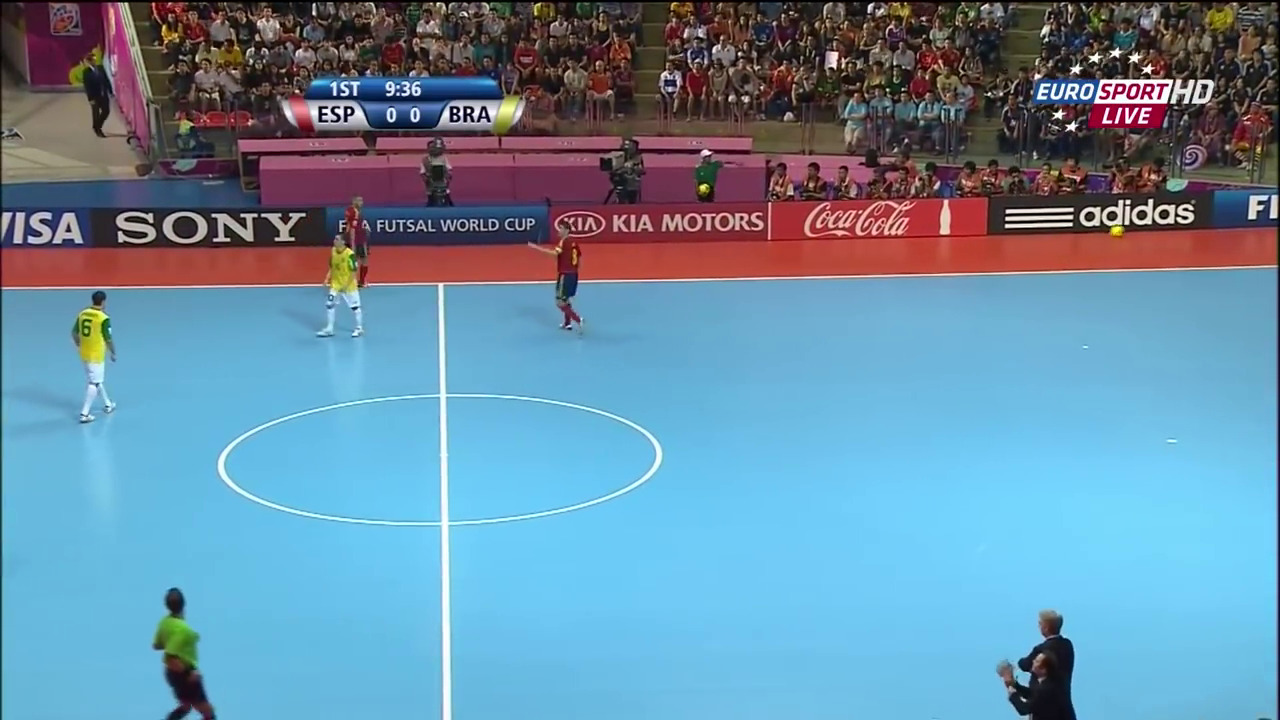person: (68, 284, 120, 424), (524, 215, 585, 334), (322, 227, 362, 338), (343, 194, 369, 290)
